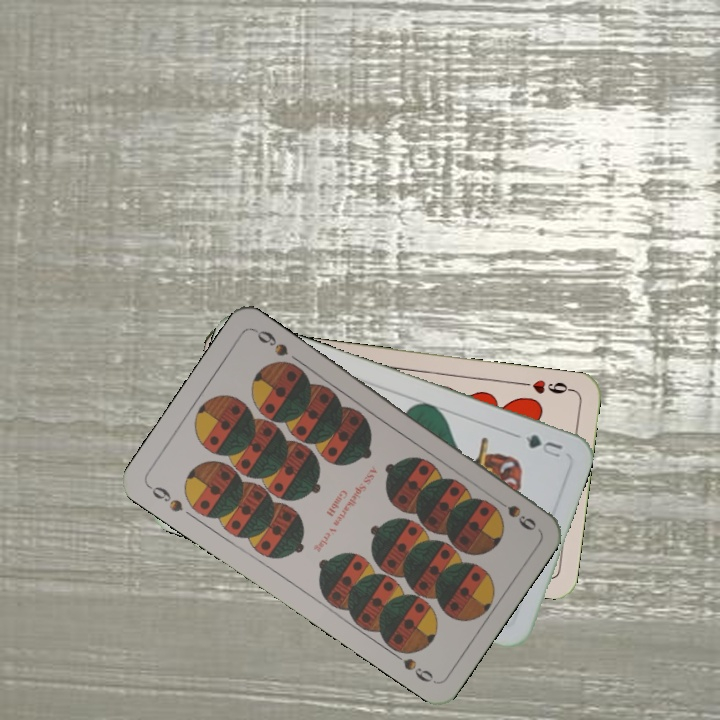GU: (520, 430, 565, 461)
H9: (517, 375, 576, 397)
S9: (488, 492, 539, 533), (144, 481, 186, 515)
